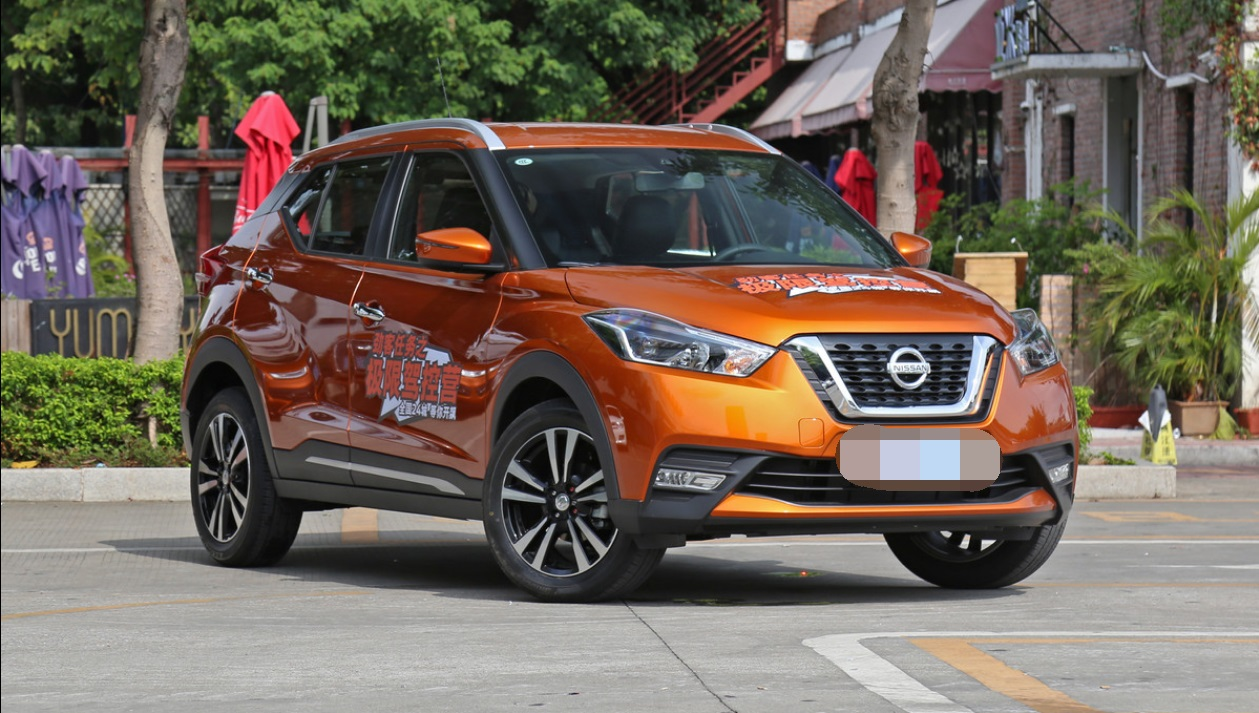SUV: (177, 112, 1087, 605)
